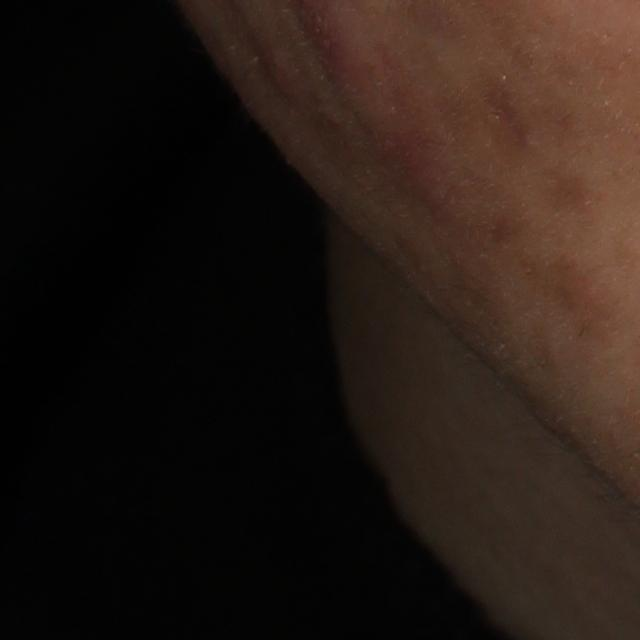papule: (399, 148, 467, 222), (255, 43, 300, 101)
